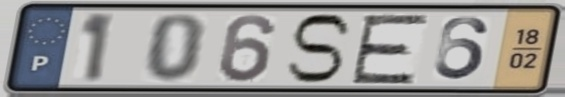0: (144, 11, 210, 85)
1: (77, 10, 116, 85)
6: (214, 12, 280, 85), (433, 15, 492, 83)
E: (347, 12, 433, 86)
S: (282, 11, 355, 86)
